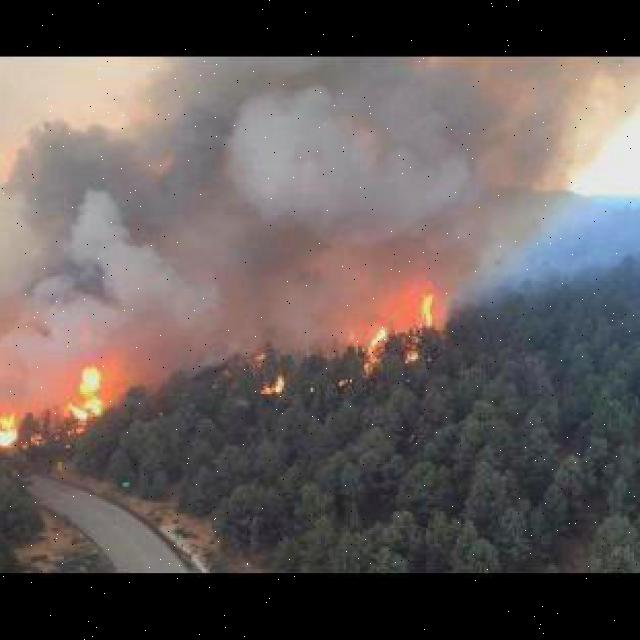fire: (60, 365, 111, 427), (406, 285, 438, 359), (0, 404, 31, 454), (366, 328, 389, 369), (259, 378, 288, 396)
smoke: (0, 55, 640, 357)
